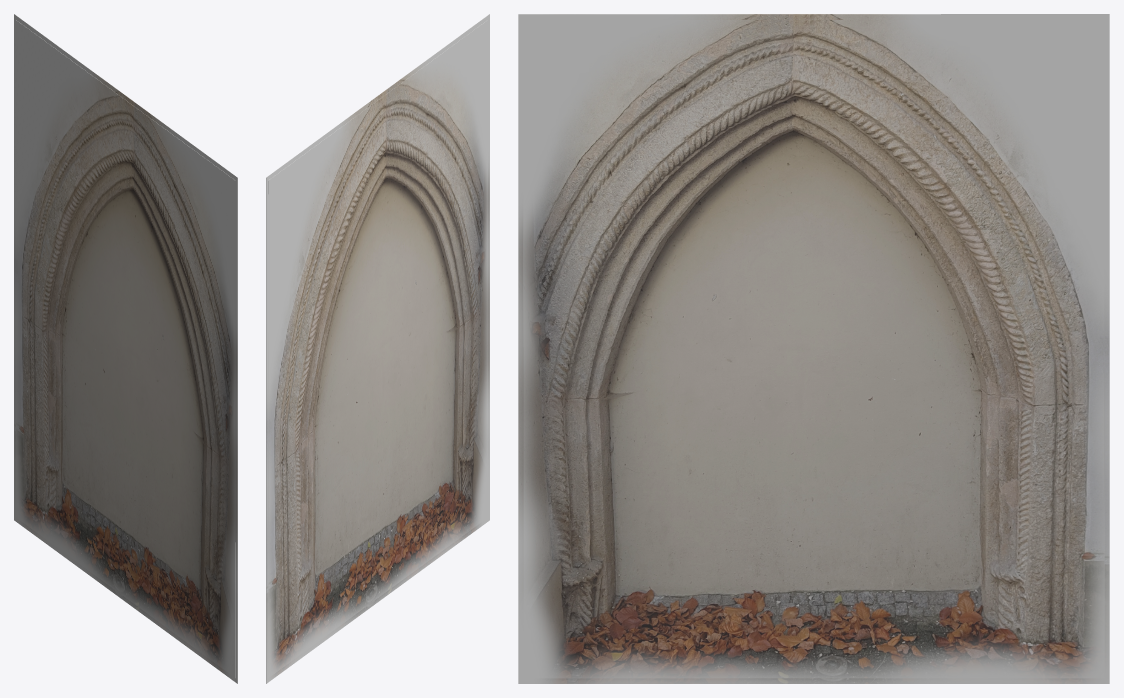
Rendered from 73 - Portal w elewacji północnej.glb.
3 renders of one model, left to right at view 1: azimuth 30°, elevation 25°; view 2: azimuth 150°, elevation 25°; view 3: azimuth 270°, elevation 25°, orthographic. The views are drawn at different scales.
Parts seen in each view (by area): view 1: Plane; view 2: Plane; view 3: Plane.
Part boxes in pixels (x1=…): Plane: x1=14, y1=14, x2=237, y2=683; Plane: x1=266, y1=14, x2=489, y2=683; Plane: x1=518, y1=14, x2=1109, y2=683.
Bounding box in the file's own units: 0.0246 × 20 × 16.
1 material, 1 textured.
